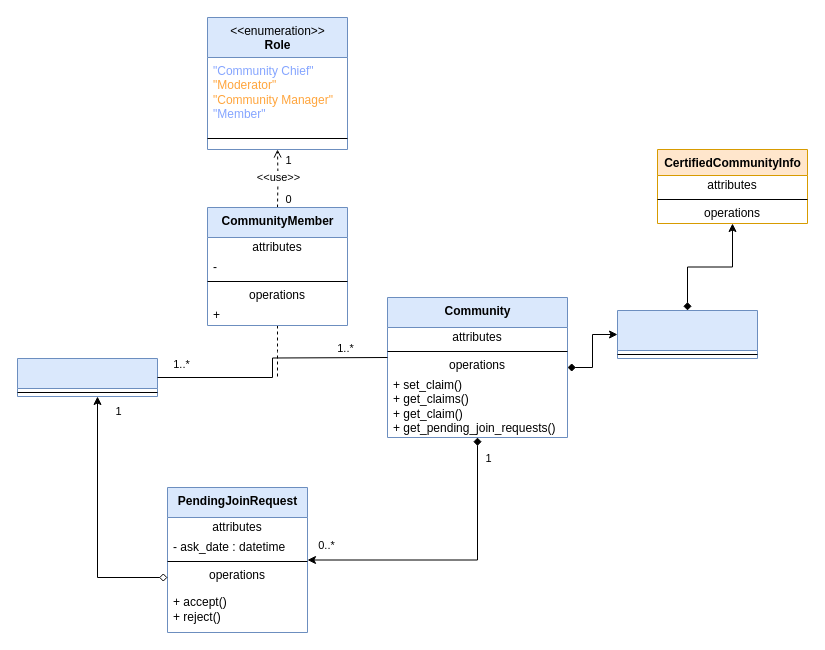
Some shapes in this 825 by 650 pixel diagram are drawn without their labels. The shapes that lost their labels are listed below. From the top down, each one's centre as x and y in pixels, then its label:
the point at 687,334: CommunityProfile
the point at 87,377: User
